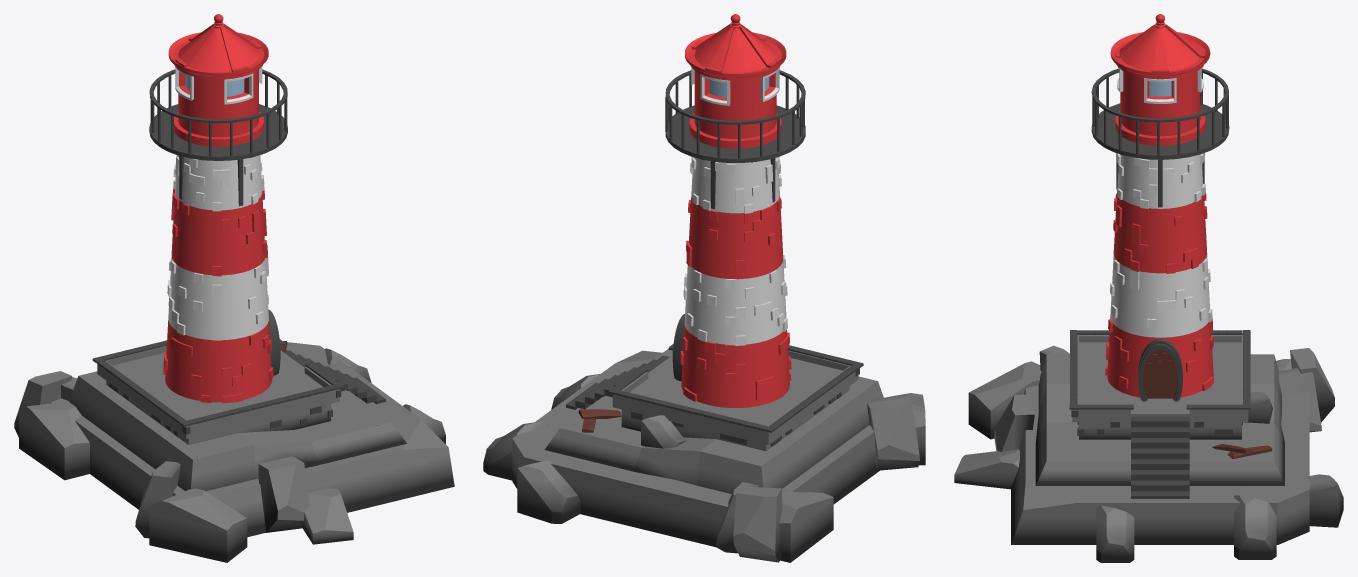
Rendered from lighthouse.glb.
3 views of the same model, side by side, from view 1: azimuth 30°, elevation 25°; view 2: azimuth 150°, elevation 25°; view 3: azimuth 270°, elevation 25° (orthographic). The views are drawn at different scales.
Parts seen in each view (by area): view 1: rocks, lighthouse, lighthouse2; view 2: rocks, lighthouse, lighthouse2, wood; view 3: rocks, lighthouse, lighthouse2, wood.
Boxes of the visible parts, left/top/right/bottom form: rocks: left=14, top=342, right=454, bottom=562; lighthouse: left=163, top=14, right=273, bottom=403; lighthouse2: left=92, top=69, right=385, bottom=437; rocks: left=483, top=349, right=925, bottom=562; lighthouse: left=680, top=14, right=791, bottom=407; lighthouse2: left=566, top=70, right=863, bottom=446; wood: left=578, top=409, right=621, bottom=432; rocks: left=954, top=334, right=1343, bottom=562; lighthouse: left=1105, top=14, right=1213, bottom=397; lighthouse2: left=1069, top=68, right=1250, bottom=498; wood: left=1143, top=349, right=1272, bottom=458.
Bounding box in the file's own units: 4.43 × 5.9 × 4.56.
6 materials, 1 textured.
